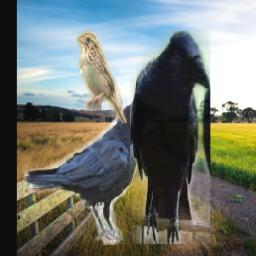Crow: (24, 98, 166, 246), (131, 31, 211, 244)
Sparrow: (76, 31, 128, 124)
